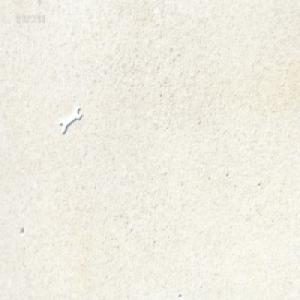Wrench: (59, 106, 82, 137)
